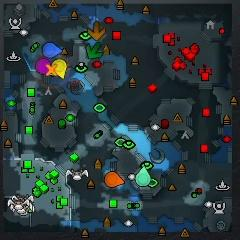Other: (46, 64, 57, 77)
p1: (42, 42, 62, 59)
p2: (136, 167, 150, 186)
p3: (36, 58, 51, 75)
p4: (53, 59, 67, 80)
p5: (105, 171, 124, 187)
x4: (86, 43, 102, 59)
x5: (87, 21, 105, 40)
